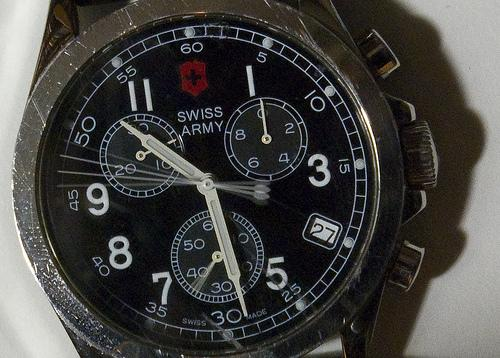pen: (14, 3, 438, 358)
